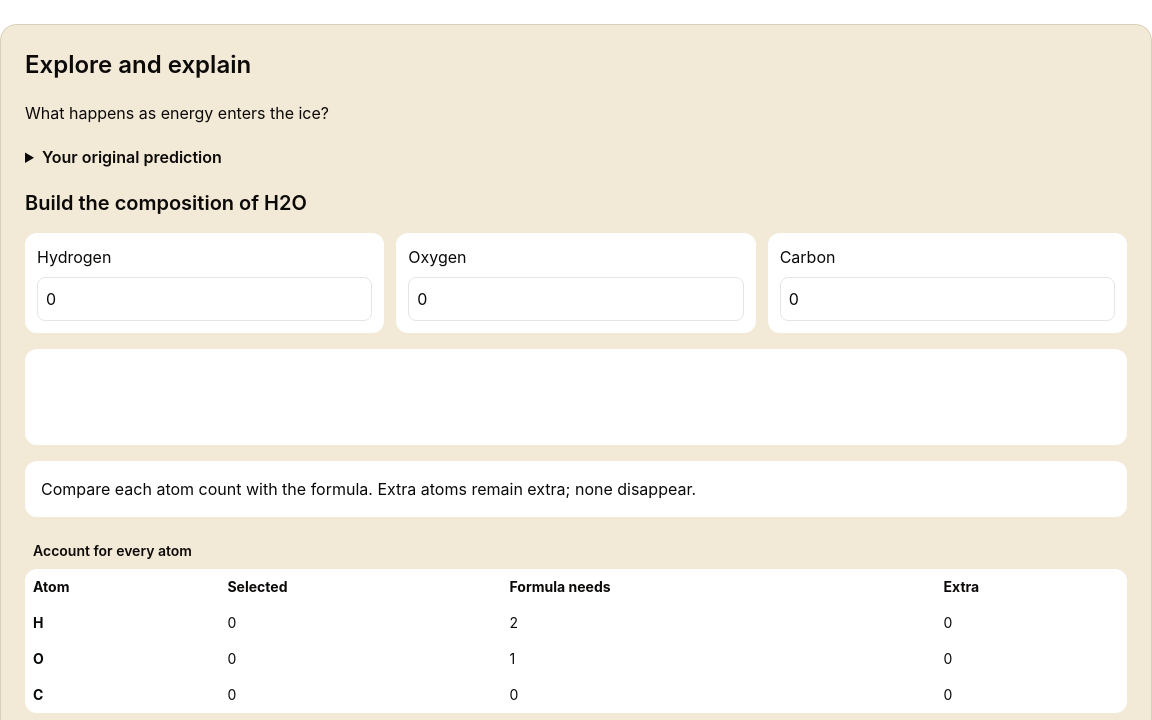
Scenario: Investigation activities › rejects extra carbon as a correct water composition
Step 1. Replace the text in the number field named "H atoms" with "2" → (205, 299), box [37, 277, 372, 321]
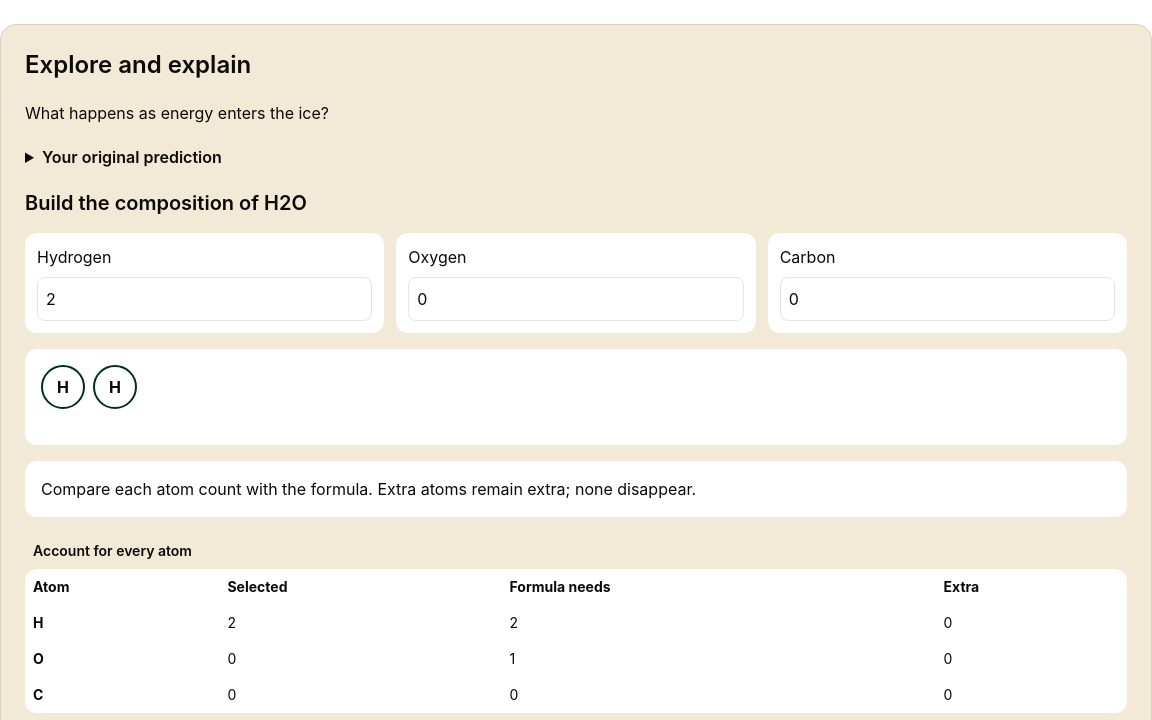
Step 2. Replace the text in the number field named "O atoms" with "1" → (576, 299), box [408, 277, 744, 321]
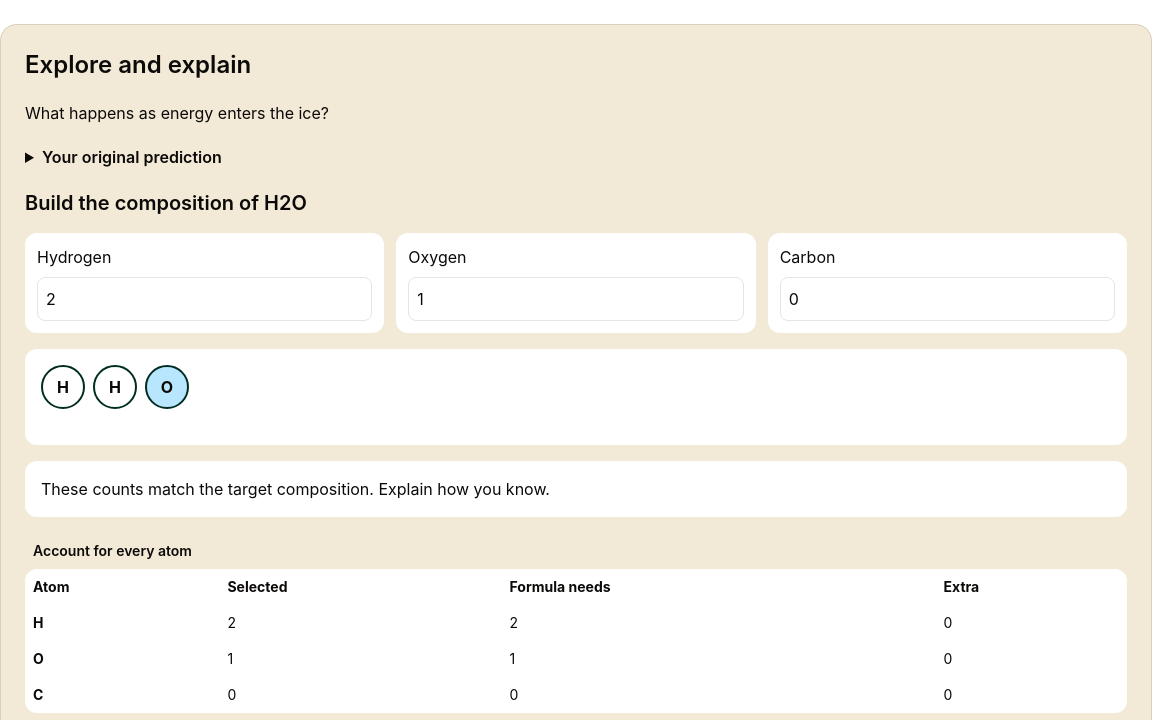
Now the text "These counts match" is shown, box [41, 479, 550, 499]
Step 3. Replace the text in the number field named "C atoms" with "1" → (947, 299), box [780, 277, 1115, 321]
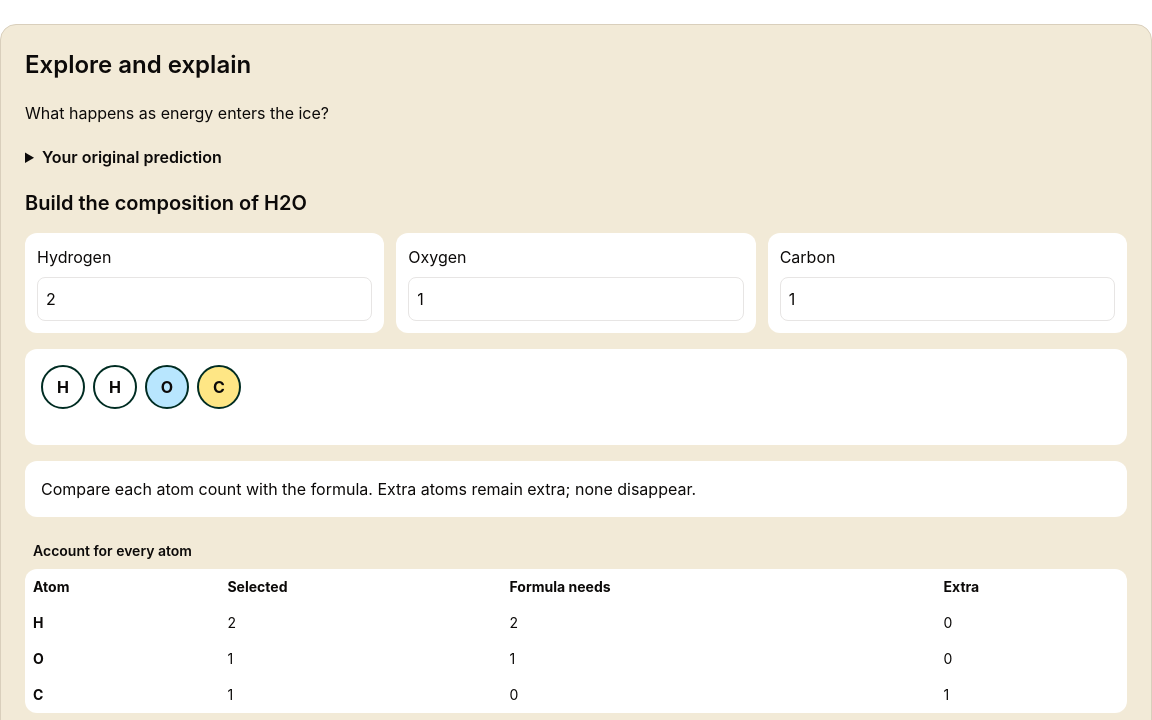
Now the text "These counts match" is gone
Now the text "Extra atoms remain extra" is shown, box [41, 479, 696, 499]
